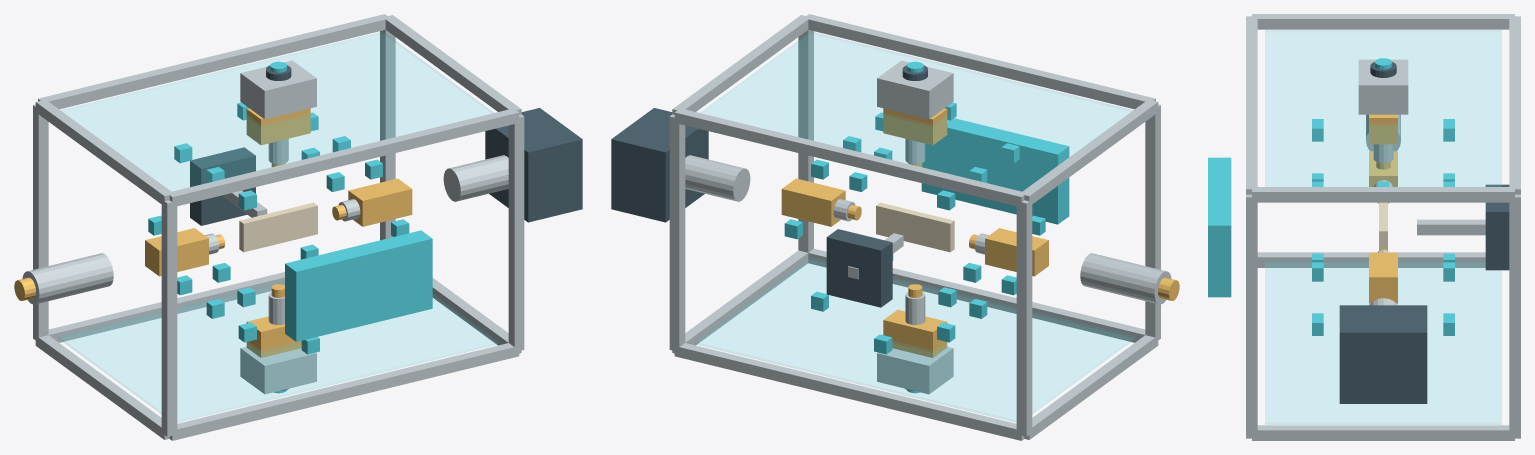
The model's file is REBOUND-MAP-cell.glb.
The picture shows the model from 3 angles, left to right: view 1: azimuth 30°, elevation 25°; view 2: azimuth 150°, elevation 25°; view 3: azimuth 270°, elevation 25°; orthographic projection. The views are drawn at different scales.
Visible parts, largest first — view 1: window, frame, oxygen, dark, gas, fuel; view 2: window, frame, oxygen, dark, gas, fuel; view 3: window, frame, dark, oxygen, gas, fuel.
Part boxes in pixels (bbox=[...]): window: bbox=[58, 32, 498, 422]; frame: bbox=[22, 14, 524, 440]; oxygen: bbox=[148, 61, 432, 393]; dark: bbox=[190, 65, 582, 390]; gas: bbox=[14, 108, 412, 357]; fuel: bbox=[239, 202, 317, 252]; window: bbox=[695, 32, 1135, 422]; frame: bbox=[669, 14, 1171, 440]; oxygen: bbox=[784, 61, 1069, 393]; dark: bbox=[611, 65, 927, 390]; gas: bbox=[781, 108, 1179, 357]; fuel: bbox=[876, 202, 954, 252]; window: bbox=[1265, 30, 1501, 424]; frame: bbox=[1246, 14, 1520, 440]; dark: bbox=[1339, 62, 1509, 403]; oxygen: bbox=[1208, 58, 1454, 335]; gas: bbox=[1369, 114, 1397, 303]; fuel: bbox=[1379, 202, 1387, 250].
Bounding box in the file's own units: 0.437 × 0.25 × 0.214.
